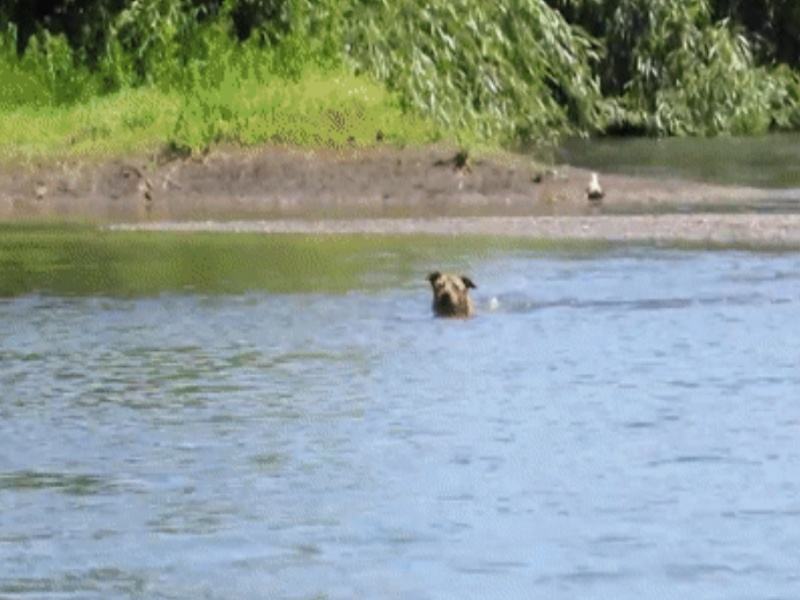dog: (425, 266, 501, 324)
